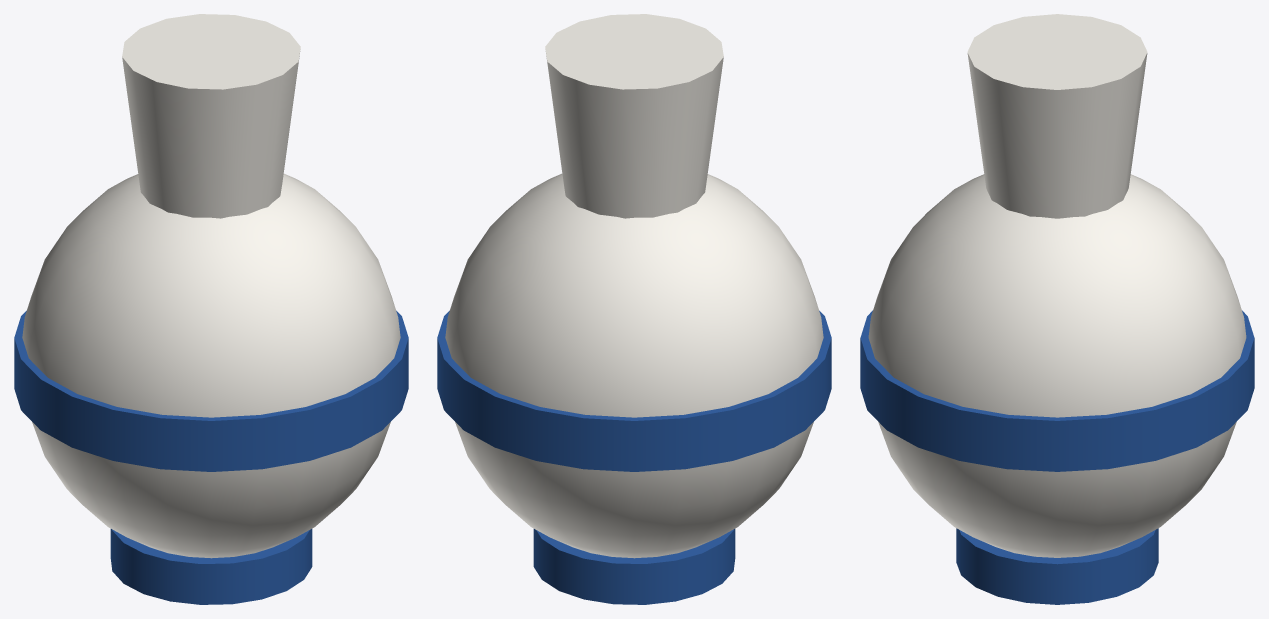
Rendered from vase.glb.
3 views of the same model, side by side, from view 1: azimuth 30°, elevation 25°; view 2: azimuth 150°, elevation 25°; view 3: azimuth 270°, elevation 25° (orthographic).
Visible parts, largest first — view 1: Belly, Neck, Band, Foot; view 2: Belly, Neck, Band, Foot; view 3: Belly, Neck, Band, Foot.
Part boxes in pixels (bbox=[...]): Belly: bbox=[22, 173, 400, 558]; Neck: bbox=[122, 14, 300, 218]; Band: bbox=[14, 310, 408, 471]; Foot: bbox=[110, 529, 312, 604]; Belly: bbox=[445, 173, 823, 558]; Neck: bbox=[545, 14, 723, 218]; Band: bbox=[437, 310, 831, 471]; Foot: bbox=[533, 529, 735, 604]; Belly: bbox=[868, 174, 1246, 557]; Neck: bbox=[967, 14, 1147, 218]; Band: bbox=[860, 310, 1254, 471]; Foot: bbox=[956, 528, 1158, 604].
Size of the model in its own units: 0.35 by 0.5 by 0.35.
